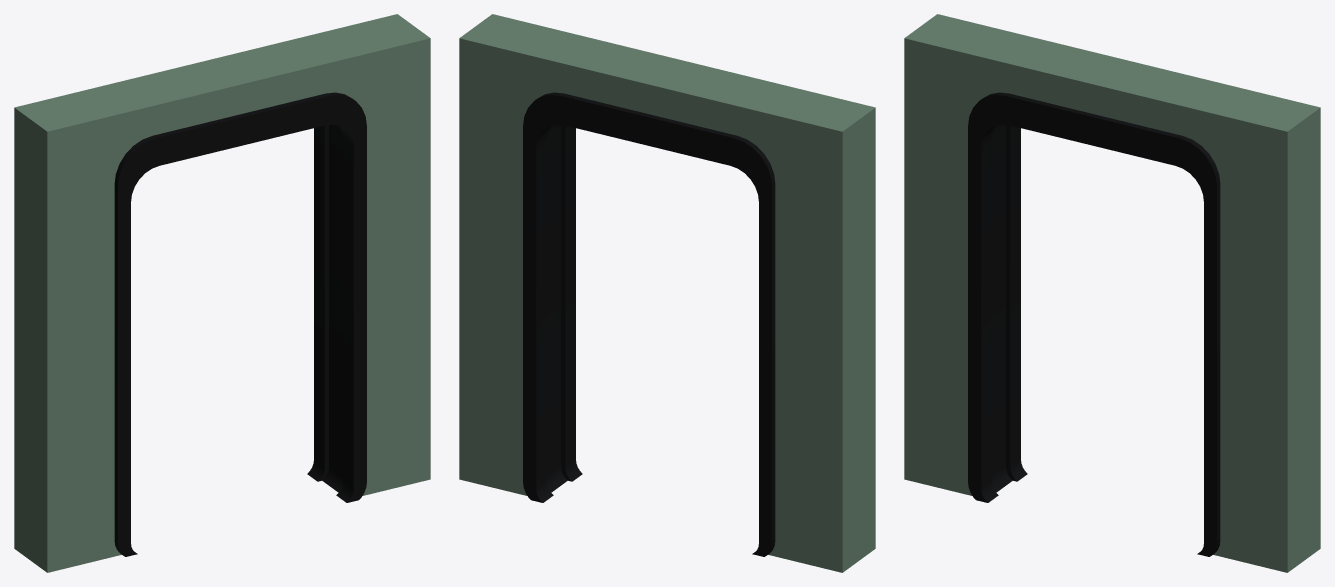
The model's file is W2_DoorRoundWall_2m.fbx.
The picture shows the model from 3 angles, left to right: view 1: azimuth 30°, elevation 25°; view 2: azimuth 150°, elevation 25°; view 3: azimuth 330°, elevation 25°; orthographic projection.
Parts seen in each view (by area): view 1: W2_DoorRoundWall_2m.001; view 2: W2_DoorRoundWall_2m.001; view 3: W2_DoorRoundWall_2m.001.
Boxes of the visible parts, left/top/right/bottom form: W2_DoorRoundWall_2m.001: left=14, top=14, right=430, bottom=572; W2_DoorRoundWall_2m.001: left=459, top=14, right=875, bottom=572; W2_DoorRoundWall_2m.001: left=904, top=14, right=1320, bottom=572.
Bounding box in the file's own units: 2 × 2.2 × 0.36.
